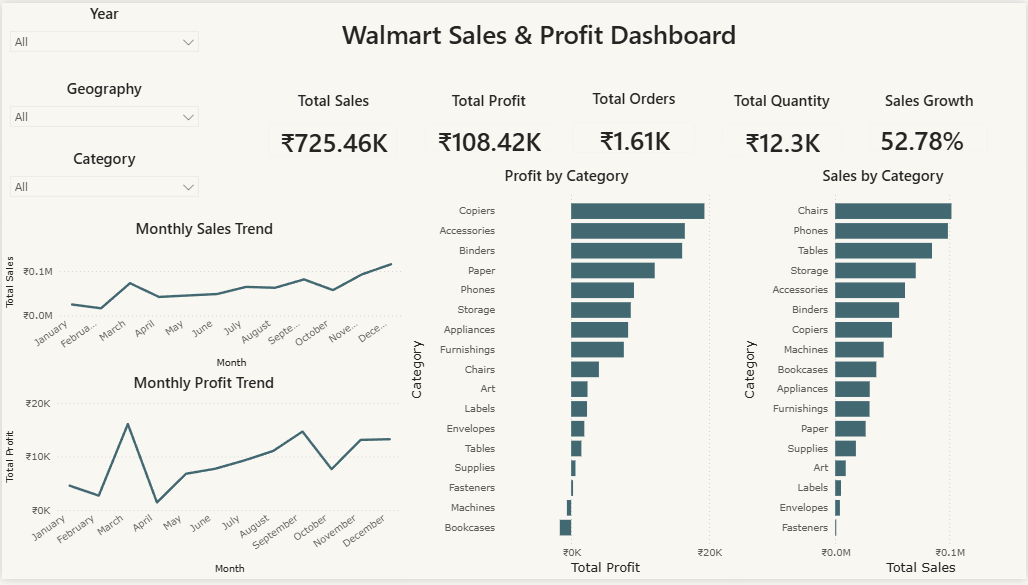

Layout of this report page (visuals, bound fields, positions):
{"tool":"powerbi","page":{"name":"Page 1","canvas":[1280,720],"ordinal":0},"visuals":[{"type":"cardVisual","title":"Total Sales","fields":{"Data":["Walmart.Total Sales"]},"box":[315.7,108.6,195.7,100],"z":0},{"type":"cardVisual","title":"Total Profit","fields":{"Data":["Walmart.Total Profit"]},"box":[511.4,108.6,194.3,95.7],"z":1000},{"type":"cardVisual","title":"Total Quantity","fields":{"Data":["Walmart.Total Quantity"]},"box":[882.9,108.6,184.3,100],"z":2000},{"type":"cardVisual","title":"Total Orders","fields":{"Data":["Walmart.Total Orders"]},"box":[695.7,105.7,187.1,98.6],"z":3000},{"type":"lineChart","title":"Monthly Sales Trend","fields":{"Category":["Walmart.Order Date.Variation.Date Hierarchy.Month"],"Y":["Walmart.Total Sales"]},"box":[0,268.6,505.7,192.9],"z":4000},{"type":"clusteredBarChart","title":"Sales by Category","fields":{"Category":["Walmart.Category"],"Y":["Walmart.Total Sales"]},"box":[922.9,202.9,357.1,517.1],"z":5000},{"type":"slicer","title":"Year","fields":{"Values":["Walmart.Order Date.Variation.Date Hierarchy.Year"]},"box":[0,0,255.7,87.1],"z":6000},{"type":"slicer","title":"Geography","fields":{"Values":["Walmart.Geography"]},"box":[0,94.3,255.7,87.1],"z":7000},{"type":"slicer","title":"Category","fields":{"Values":["Walmart.Category"]},"box":[0,181.4,255.7,87.1],"z":8000},{"type":"cardVisual","title":"Sales Growth","fields":{"Data":["Walmart.Sales Growth %"]},"box":[1067.1,108.6,182.9,94.3],"z":8001},{"type":"lineChart","title":"Monthly Profit Trend","fields":{"Category":["Walmart.Order Date.Variation.Date Hierarchy.Month"],"Y":["Walmart.Total Profit"]},"box":[0,461.4,504.3,258.6],"z":8002},{"type":"clusteredBarChart","title":"Profit by Category","fields":{"Category":["Walmart.Category"],"Y":["Walmart.Total Profit"]},"box":[505.7,202.9,398.6,517.1],"z":8003},{"type":"textbox","box":[350,11.2,642.5,63.8],"z":8004}]}

Visuals, with their boxes in screenshot pixels (x1, y1, x2, y2), scaled from the page's 1280x720 canvas onto the 1028x585 screenshot:
"Total Sales" cardVisual: [x1=254, y1=88, x2=411, y2=169]
"Total Profit" cardVisual: [x1=411, y1=88, x2=567, y2=166]
"Total Quantity" cardVisual: [x1=709, y1=88, x2=857, y2=169]
"Total Orders" cardVisual: [x1=559, y1=86, x2=709, y2=166]
"Monthly Sales Trend" lineChart: [x1=0, y1=218, x2=406, y2=375]
"Sales by Category" clusteredBarChart: [x1=741, y1=165, x2=1027, y2=584]
"Year" slicer: [x1=0, y1=0, x2=205, y2=71]
"Geography" slicer: [x1=0, y1=77, x2=205, y2=147]
"Category" slicer: [x1=0, y1=147, x2=205, y2=218]
"Sales Growth" cardVisual: [x1=857, y1=88, x2=1004, y2=165]
"Monthly Profit Trend" lineChart: [x1=0, y1=375, x2=405, y2=584]
"Profit by Category" clusteredBarChart: [x1=406, y1=165, x2=726, y2=584]
textbox: [x1=281, y1=9, x2=797, y2=61]
